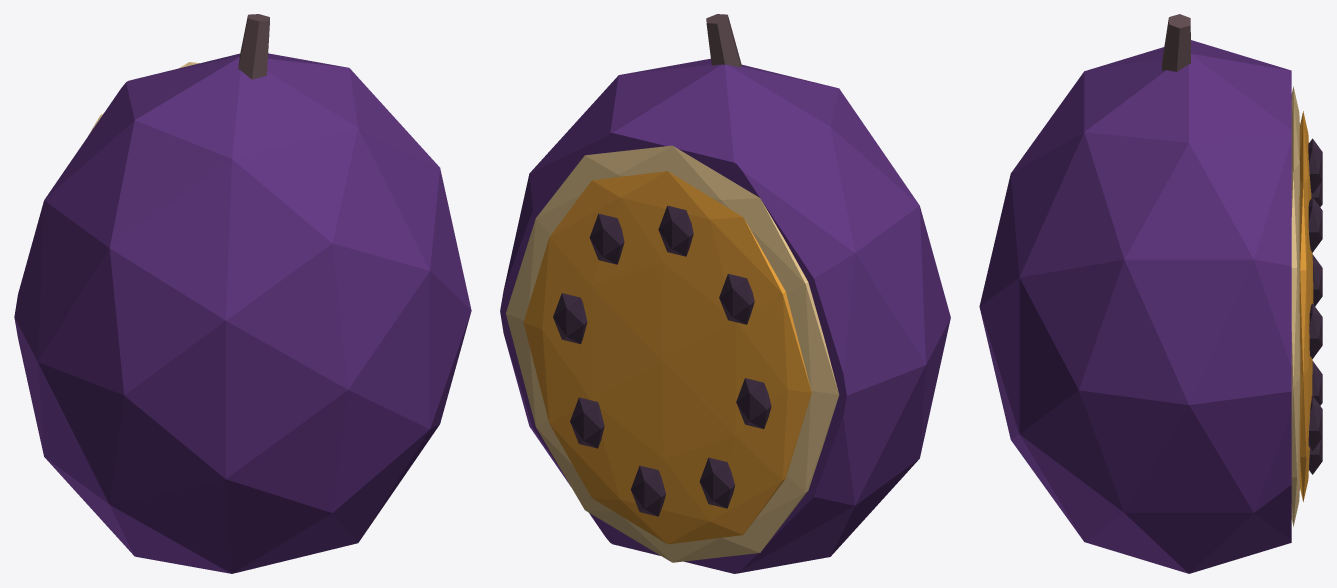
The model's file is Passionfruit.obj.
3 views of the same model, side by side, from view 1: azimuth 30°, elevation 25°; view 2: azimuth 150°, elevation 25°; view 3: azimuth 270°, elevation 25° (orthographic).
Visible parts, largest first — view 1: Passionfruit_PassionfruitRind, Passionfruit_PassionfruitStem; view 2: Passionfruit_PassionfruitRind, Passionfruit_PassionfruitPulp, Passionfruit_PassionfruitPith, Passionfruit_PassionfruitSeeds, Passionfruit_PassionfruitStem; view 3: Passionfruit_PassionfruitRind, Passionfruit_PassionfruitPulp, Passionfruit_PassionfruitPith, Passionfruit_PassionfruitSeeds, Passionfruit_PassionfruitStem.
Boxes of the visible parts, bbox=[...] form: Passionfruit_PassionfruitRind: bbox=[14, 53, 471, 573]; Passionfruit_PassionfruitStem: bbox=[238, 14, 269, 79]; Passionfruit_PassionfruitRind: bbox=[500, 58, 950, 573]; Passionfruit_PassionfruitPulp: bbox=[523, 171, 811, 544]; Passionfruit_PassionfruitPith: bbox=[506, 145, 839, 562]; Passionfruit_PassionfruitSeeds: bbox=[553, 205, 771, 516]; Passionfruit_PassionfruitStem: bbox=[706, 14, 741, 67]; Passionfruit_PassionfruitRind: bbox=[979, 40, 1291, 573]; Passionfruit_PassionfruitPulp: bbox=[1299, 111, 1313, 501]; Passionfruit_PassionfruitPith: bbox=[1291, 86, 1300, 526]; Passionfruit_PassionfruitSeeds: bbox=[1308, 138, 1322, 474]; Passionfruit_PassionfruitStem: bbox=[1161, 14, 1190, 71].
Bounding box in the file's own units: 1 × 1.29 × 0.7363.
